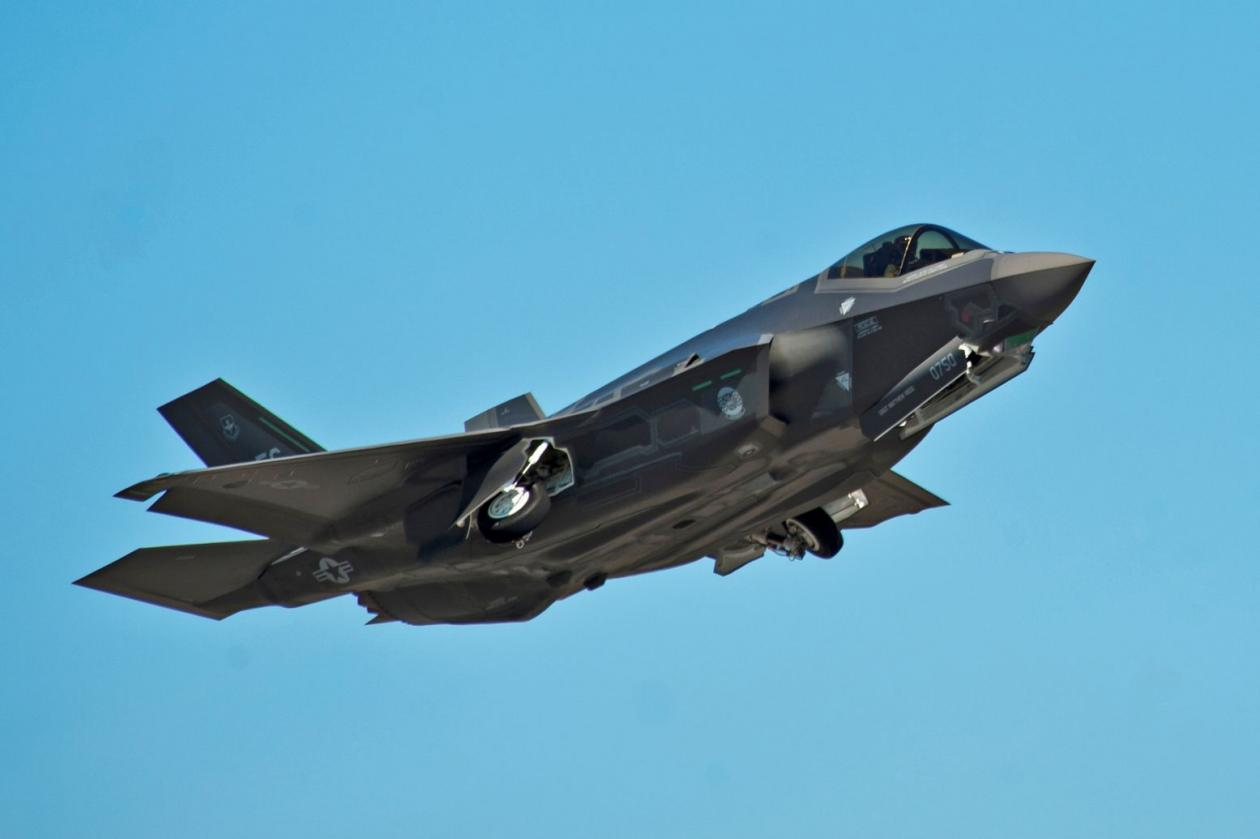F-35 Lightning: (103, 179, 1116, 686)
